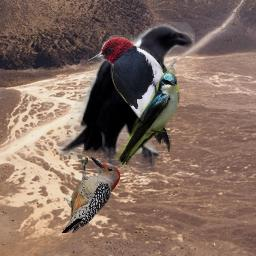Crow: (55, 22, 195, 181)
Swallow: (116, 71, 180, 169)
Woodpecker: (84, 35, 177, 152), (62, 157, 120, 233)
